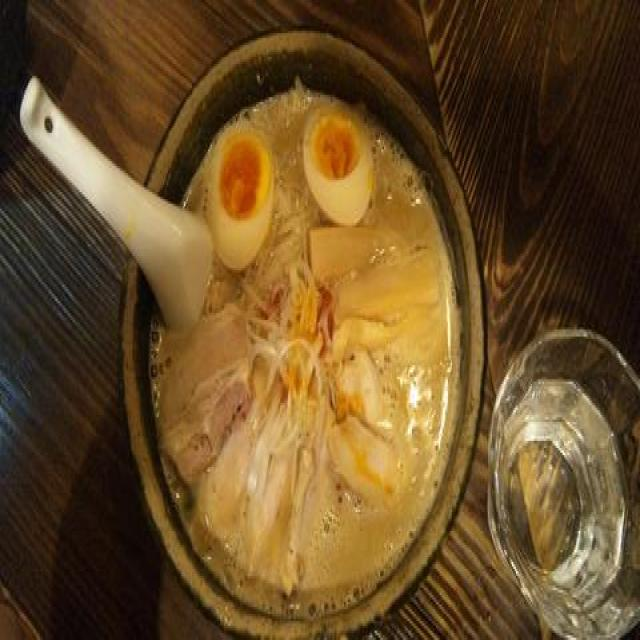面条主食: (133, 14, 476, 640)
